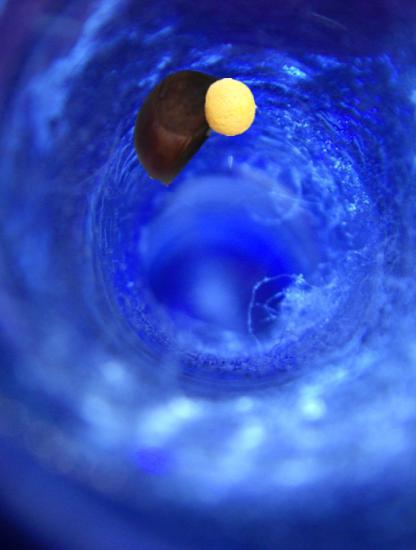Cantaloupe: (202, 78, 261, 137)
Chestnut: (114, 57, 239, 182)
